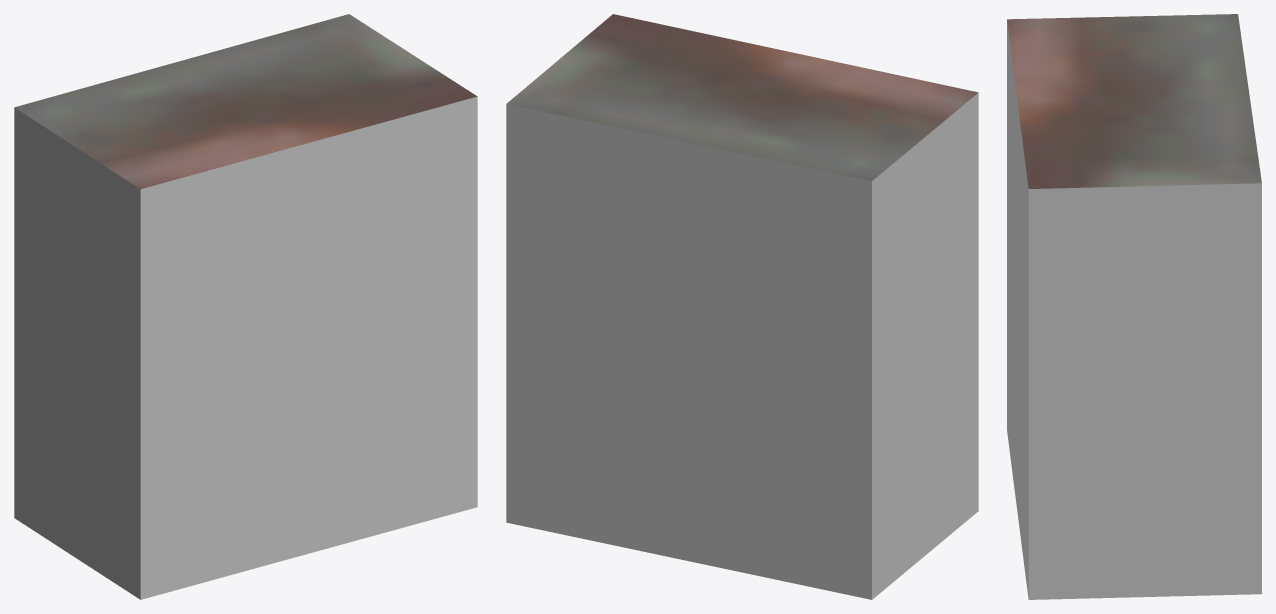
The model's file is DEBW_0010007THZ5.gltf.
The picture shows the model from 3 angles, left to right: view 1: azimuth 30°, elevation 25°; view 2: azimuth 150°, elevation 25°; view 3: azimuth 270°, elevation 25°; orthographic projection.
Visible parts, largest first — view 1: Z_UP; view 2: Z_UP; view 3: Z_UP.
Part boxes in pixels (bbox=[...]): Z_UP: bbox=[14, 14, 477, 599]; Z_UP: bbox=[506, 14, 978, 599]; Z_UP: bbox=[1007, 14, 1261, 599].
Size of the model in its own units: 3.64 by 3.98 by 2.24.
2 materials, 1 textured.
